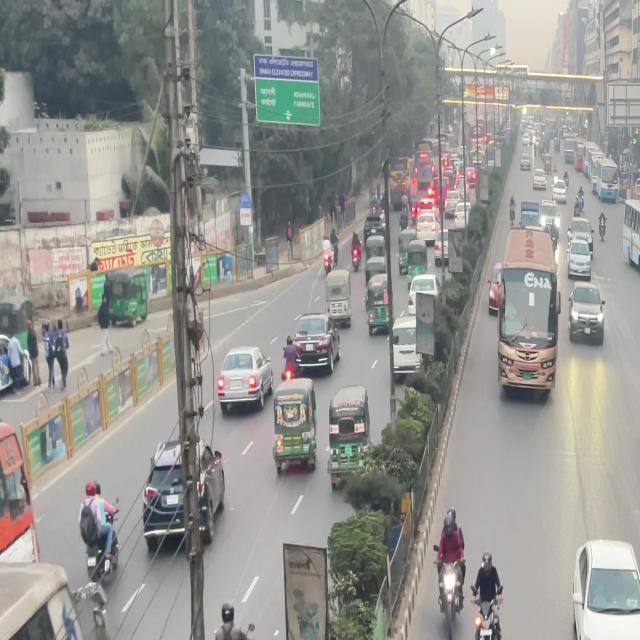bus: (0, 528, 115, 640), (493, 250, 560, 398), (620, 204, 640, 277)
car: (147, 436, 229, 541), (572, 540, 640, 640), (213, 351, 275, 412), (287, 314, 339, 375), (572, 288, 608, 344), (569, 240, 595, 283)
motorbike: (212, 567, 270, 640), (436, 513, 466, 634), (467, 576, 508, 640)
rickshaw: (271, 379, 321, 479), (328, 383, 370, 444), (325, 276, 352, 326)
